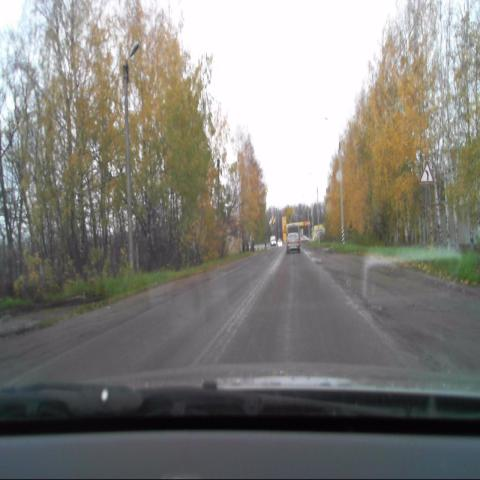1_11_1: (421, 161, 434, 184)
